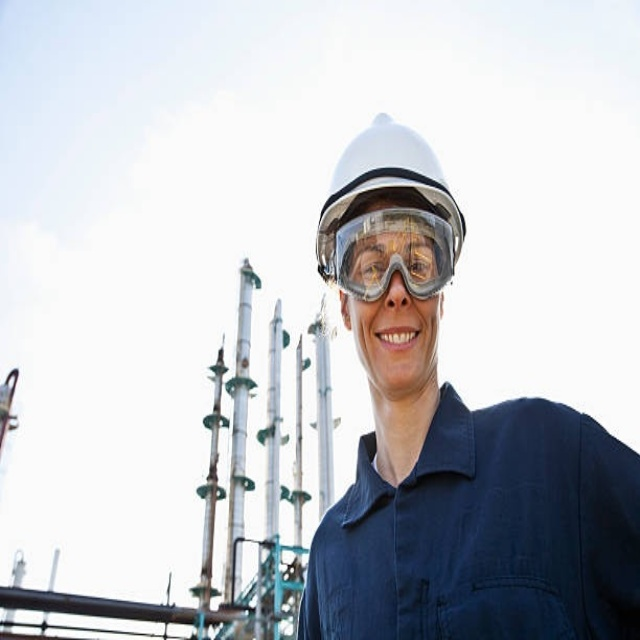Gafas: (326, 206, 458, 302)
Sin_mascara: (368, 315, 425, 375)
